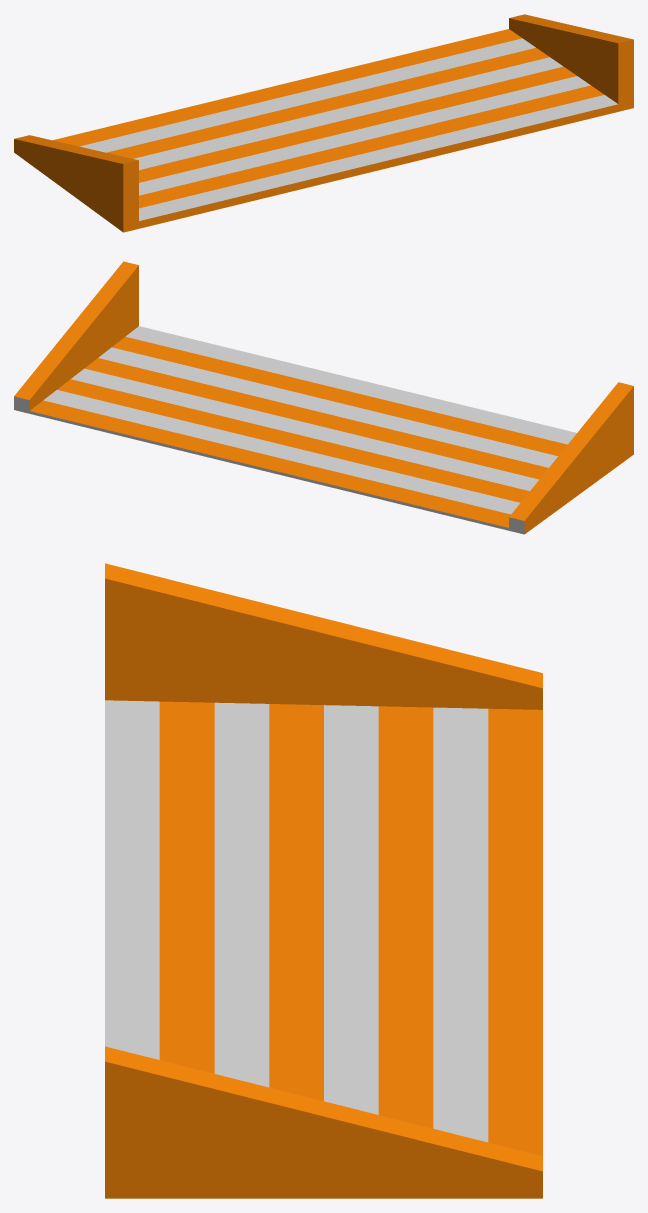
The model's file is Spaceship_entrance.fbx.
The picture shows the model from 3 angles, top to bottom: view 1: azimuth 30°, elevation 25°; view 2: azimuth 150°, elevation 25°; view 3: azimuth 270°, elevation 25°; orthographic projection. The views are drawn at different scales.
Visible parts, largest first — view 1: Cube.003; view 2: Cube.003; view 3: Cube.003.
Boxes of the visible parts, left/top/right/bottom form: Cube.003: left=14, top=14, right=633, bottom=232; Cube.003: left=14, top=261, right=633, bottom=534; Cube.003: left=105, top=563, right=542, bottom=1198.
Bounding box in the file's own units: 539 × 69.07 × 200.
